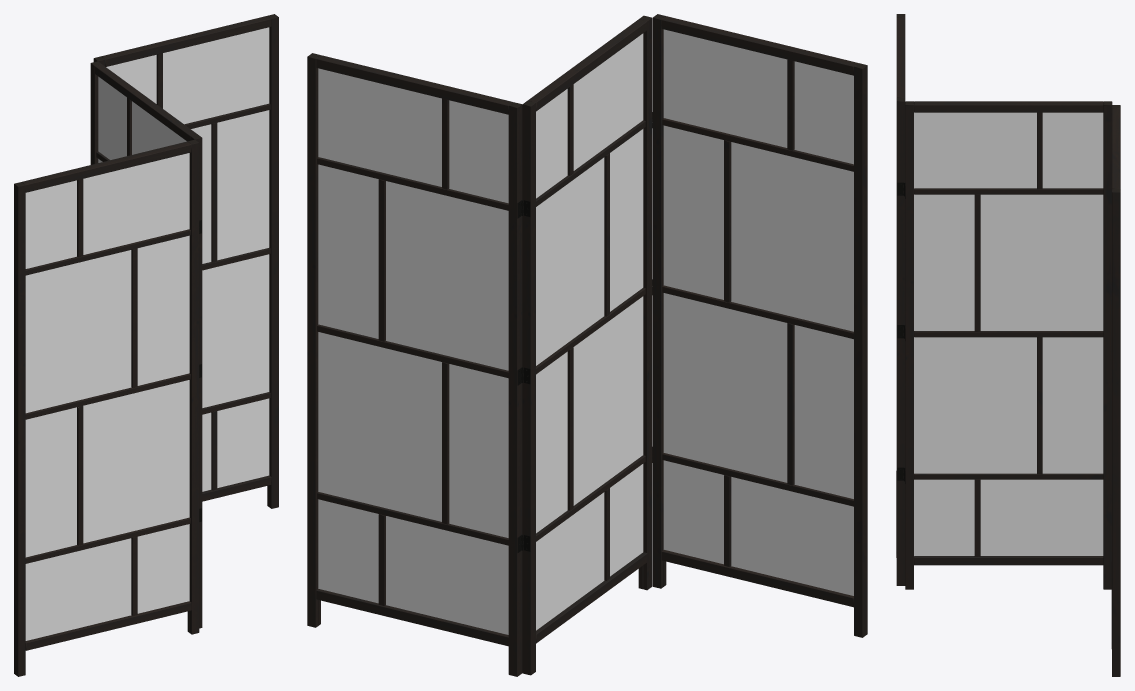
File: 01 - RISÖR Room divider - whiteblack 216x185 cm.glb
The picture shows the model from 3 angles, left to right: view 1: azimuth 30°, elevation 25°; view 2: azimuth 150°, elevation 25°; view 3: azimuth 270°, elevation 25°; orthographic projection. The views are drawn at different scales.
Parts seen in each view (by area): view 1: Mesh_0; view 2: Mesh_0; view 3: Mesh_0.
Part boxes in pixels (left/top/right/bottom): Mesh_0: left=14, top=14, right=278, bottom=676; Mesh_0: left=307, top=14, right=867, bottom=676; Mesh_0: left=896, top=14, right=1120, bottom=676.
Size of the model in its own units: 1.46 by 1.85 by 0.775.
1 material, 1 textured.
